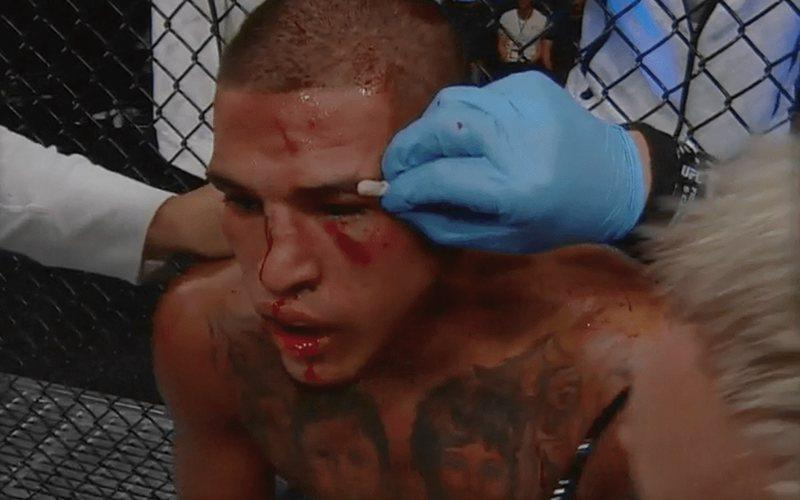Fire: (259, 273, 331, 384), (250, 104, 313, 167), (324, 219, 400, 266), (258, 215, 274, 284)
